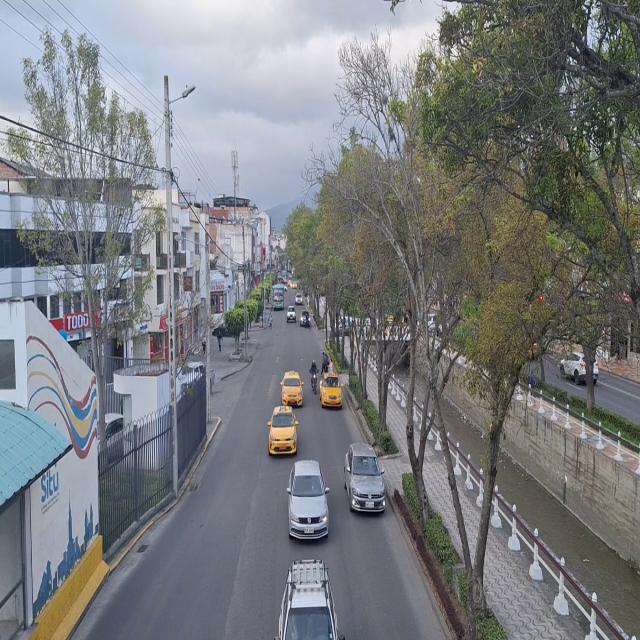MOTORCYCLE: (312, 372, 318, 396)
